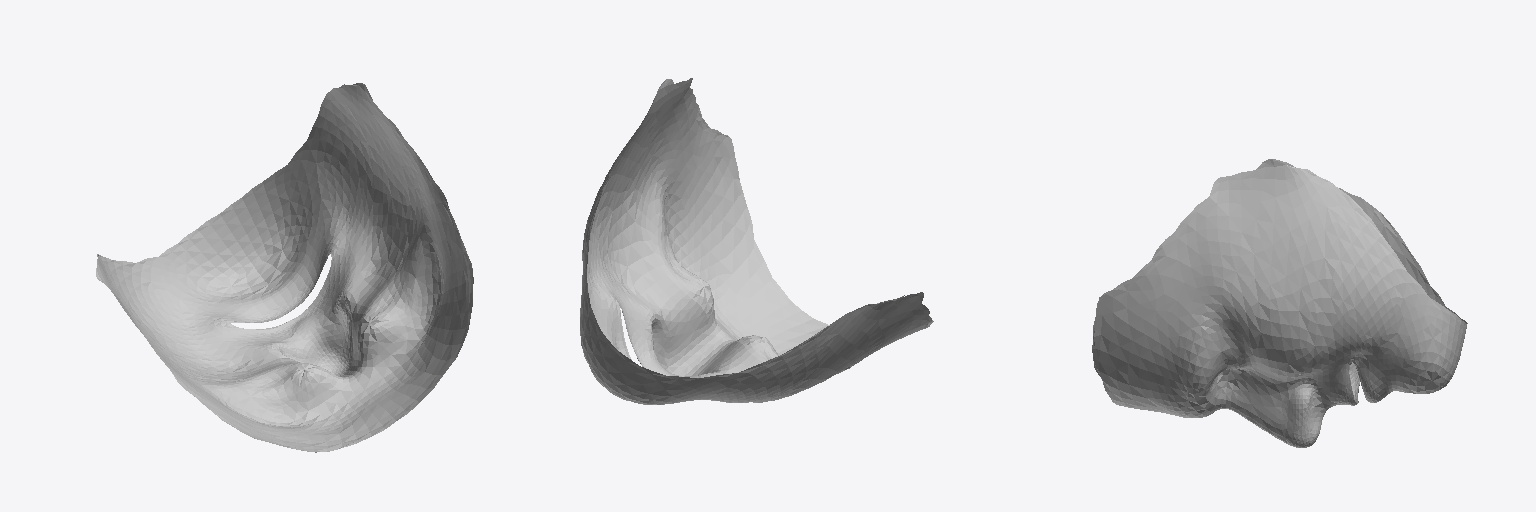
The model's file is face_gab_sfm114.obj.
The picture shows the model from 3 angles: view 1: azimuth 30°, elevation 25°; view 2: azimuth 150°, elevation 25°; view 3: azimuth 270°, elevation 25°; orthographic projection.
Bounding box in the file's own units: 165 × 160 × 184.